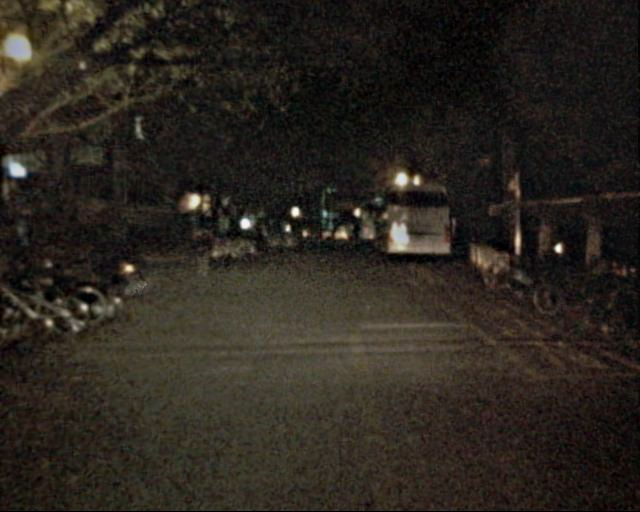person: (103, 221, 130, 288), (190, 217, 213, 274), (247, 219, 265, 262), (344, 221, 362, 255)
